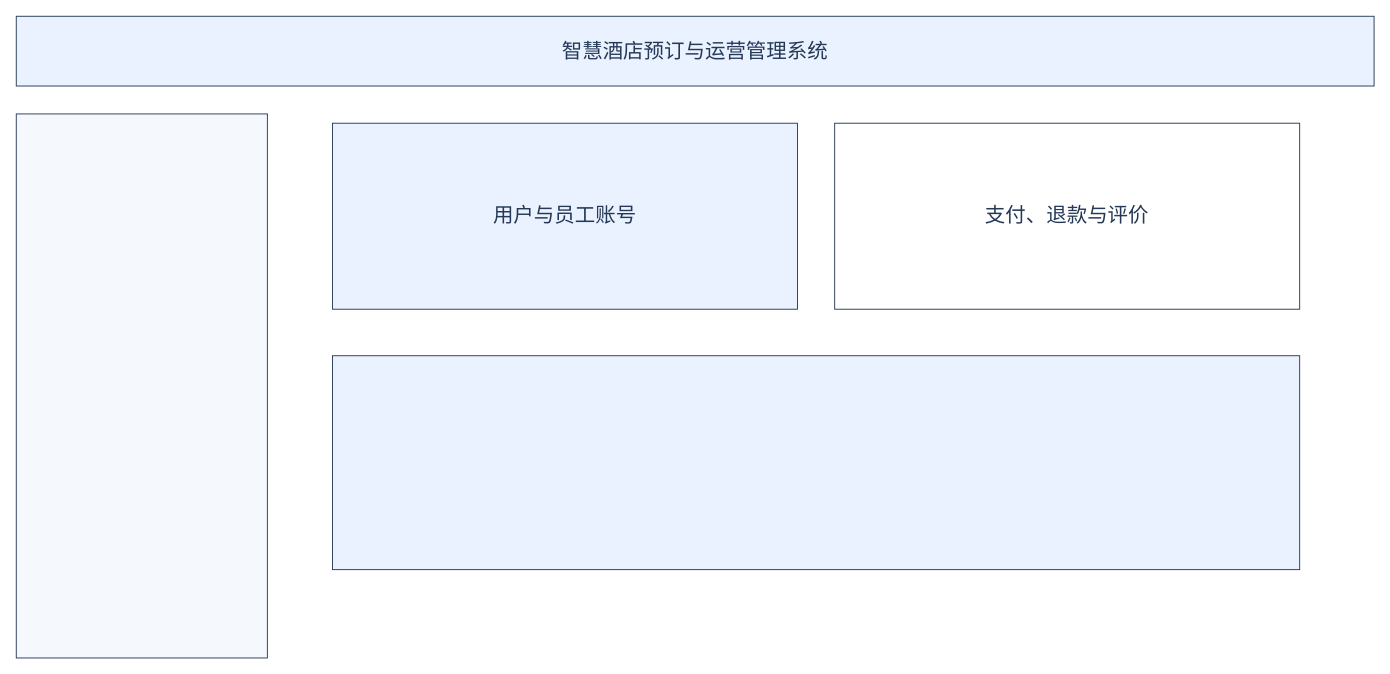
The diagram is 1390 pixels wide and 674 high, and some of its shapes have lost their labels. The shapes that lost their labels are listed below. From the top down, each one's centre as x and y in pixels, then its label:
At point 141,385: "管理后台".
At point 816,462: "日期范围筛选与经营统计图".
